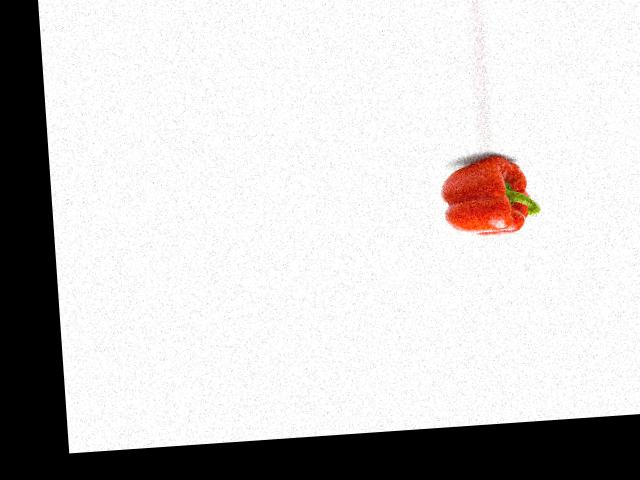bell_pepper: (430, 154, 547, 238)
